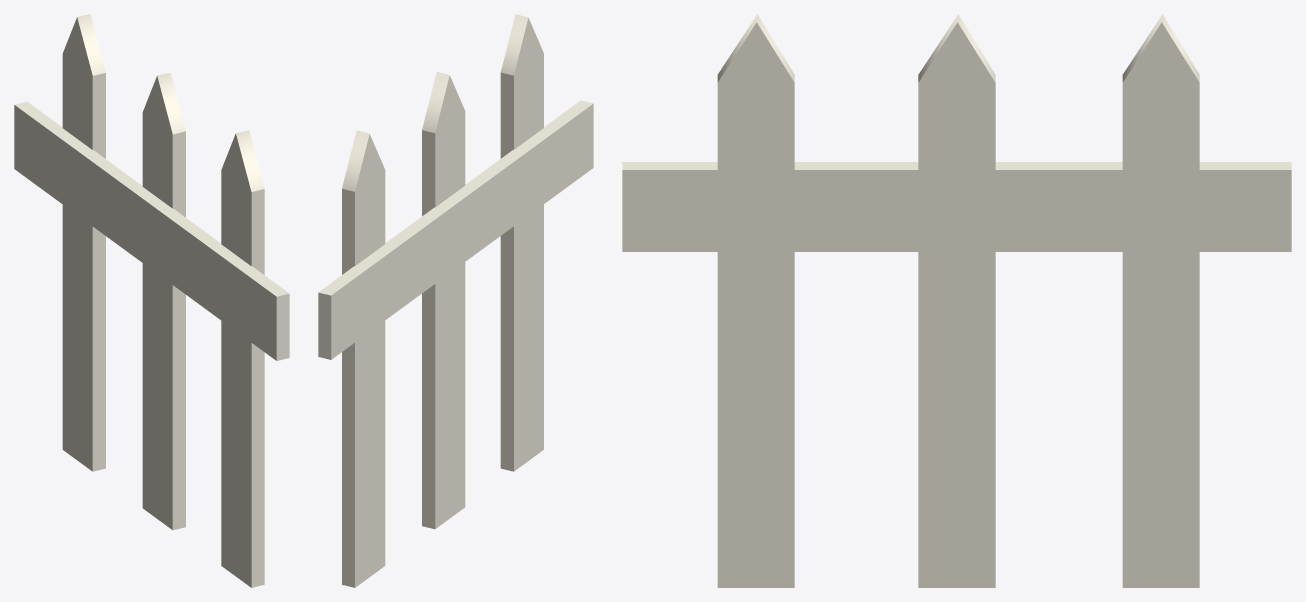
The model's file is Fence.fbx.
3 views of the same model, side by side, from view 1: azimuth 30°, elevation 25°; view 2: azimuth 150°, elevation 25°; view 3: azimuth 270°, elevation 25° (orthographic). The views are drawn at different scales.
Parts seen in each view (by area): view 1: pCube7; view 2: pCube7; view 3: pCube7.
Part boxes in pixels (bbox=[...]): pCube7: bbox=[14, 14, 289, 587]; pCube7: bbox=[318, 14, 593, 587]; pCube7: bbox=[622, 14, 1291, 587].
Size of the model in its own units: 0.3866 by 6.45 by 6.92.
1 material, 1 textured.
